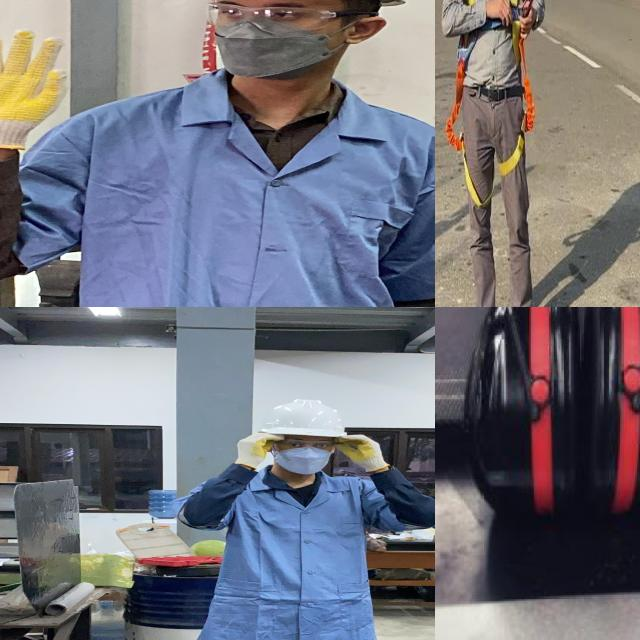Ear-protection: (472, 307, 640, 514)
Harness: (445, 58, 492, 208), (499, 35, 536, 178)
face_mask: (202, 0, 338, 77), (270, 434, 338, 471)
glasses: (196, 0, 385, 33), (267, 438, 338, 453)
hand_glove: (0, 29, 84, 141), (328, 431, 390, 469), (230, 431, 288, 466)
head_helmet: (247, 396, 354, 439)
person: (0, 0, 435, 307), (177, 396, 435, 640)
